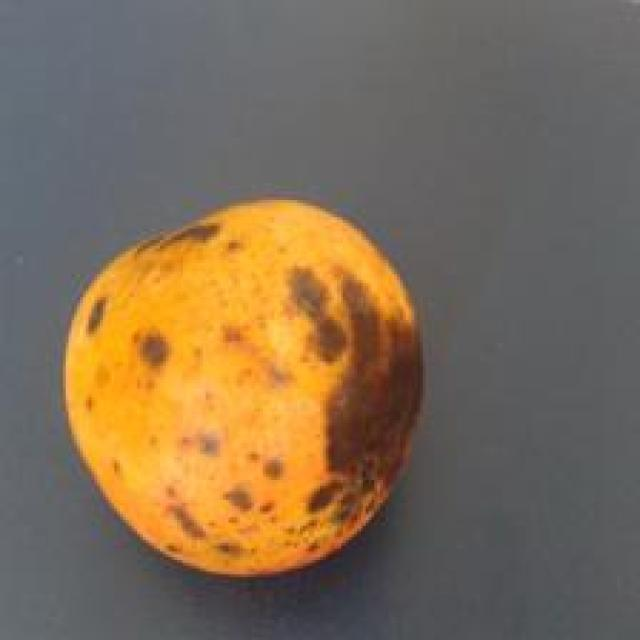black spot: (62, 193, 420, 582)
